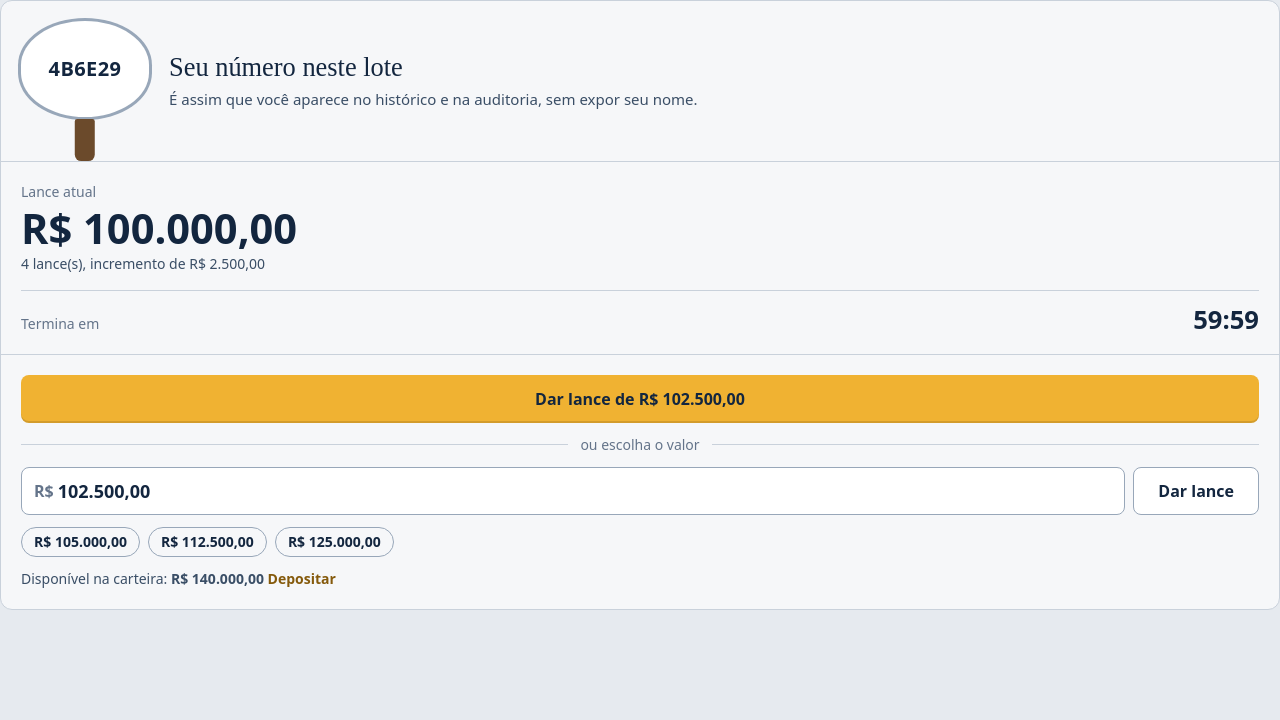
Test: BidPanel › exibe o motivo quando o lance é recusado por estar abaixo do mínimo
The width and height of the screenshot is (1280, 720).
Replace the text in the field named "Valor do lance em reais" with "101.000,00". click: (591, 491)
box: [58,468,1124,514]
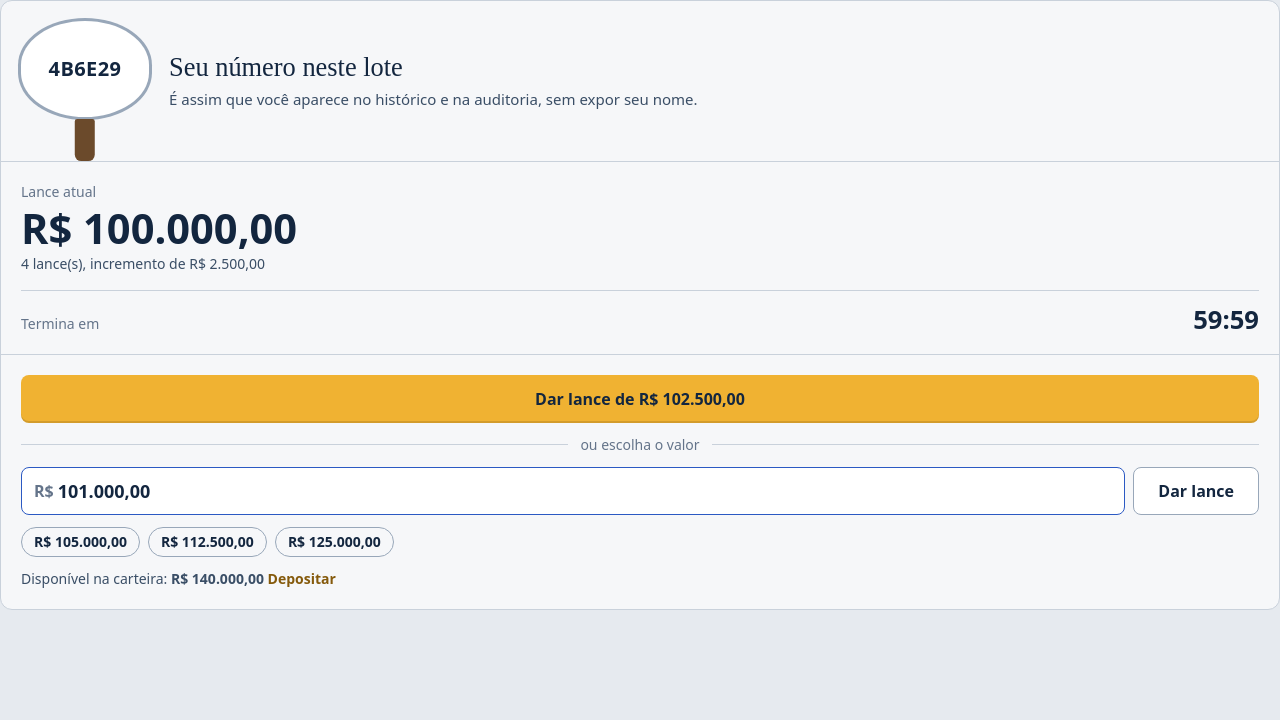
Click the button "Dar lance". click: (1196, 491)
box: [1133,467,1259,515]
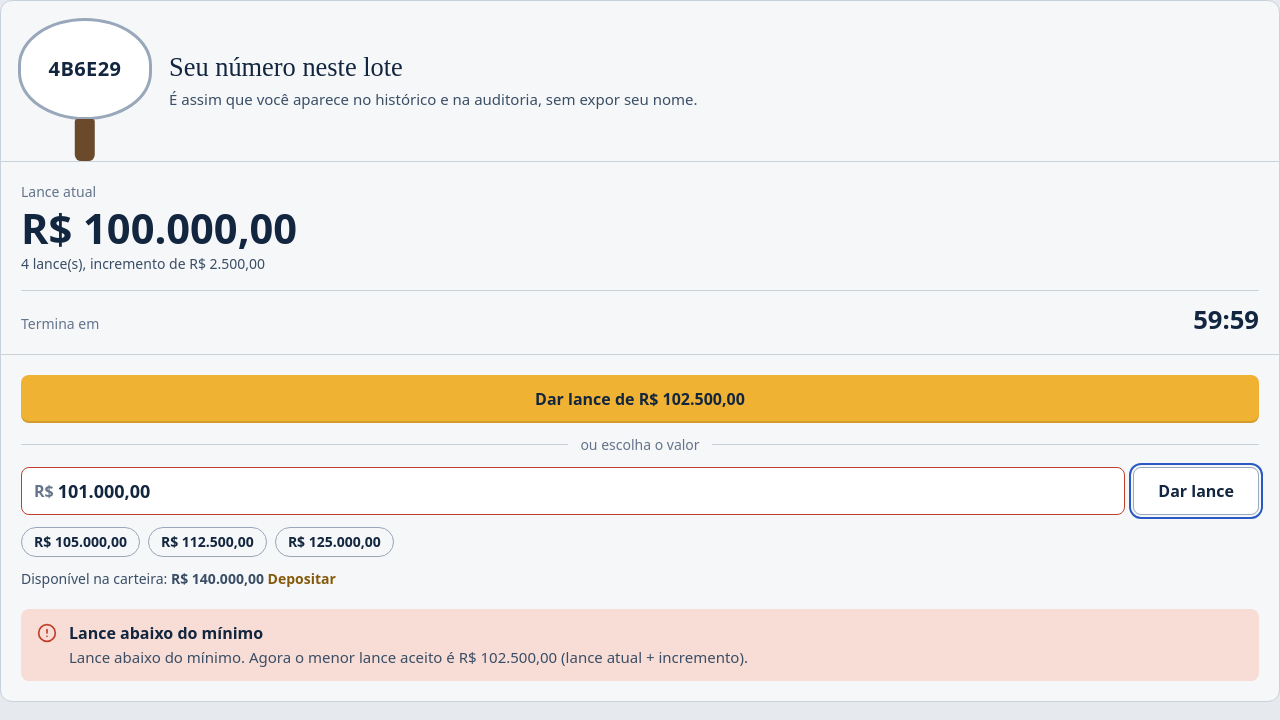
Check: the message shows "Lance abaixo do mínimo", box [69,622,263,644]
